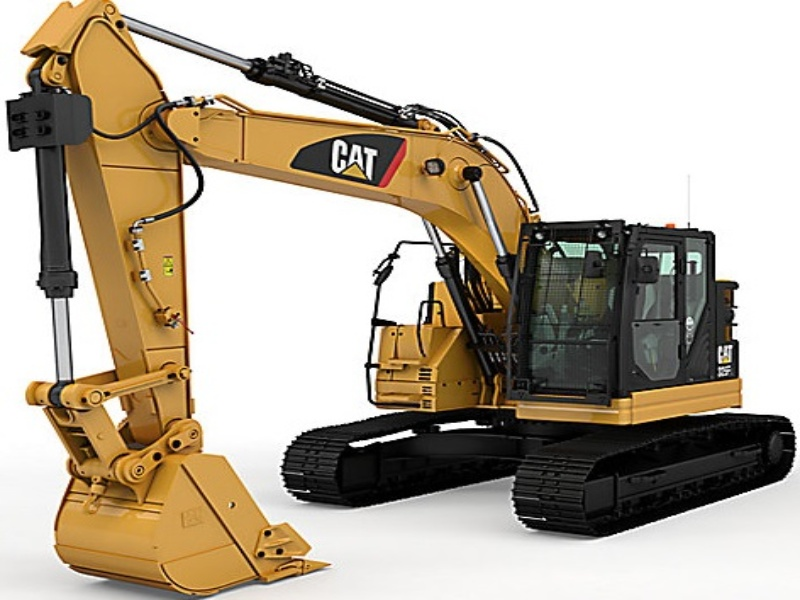wajueji: (259, 105, 800, 568)
